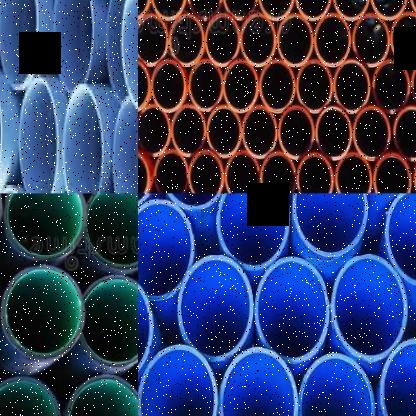pipe: (331, 254, 408, 361), (254, 256, 329, 363), (178, 256, 254, 361), (2, 265, 85, 359), (215, 193, 291, 268), (217, 346, 298, 416), (3, 194, 86, 262), (138, 345, 216, 416), (138, 201, 194, 299), (17, 68, 60, 193), (80, 275, 138, 367), (293, 194, 368, 260), (299, 353, 374, 416), (86, 193, 138, 270), (384, 193, 416, 287), (65, 375, 138, 416), (379, 336, 415, 416), (0, 378, 60, 416), (372, 59, 411, 113), (352, 13, 390, 67), (353, 105, 390, 160), (119, 0, 138, 106), (278, 105, 315, 159), (333, 60, 370, 114), (259, 59, 296, 113), (296, 59, 333, 113), (277, 13, 314, 67), (314, 13, 351, 67), (315, 107, 352, 160), (206, 105, 242, 158), (223, 59, 259, 112), (169, 13, 205, 66), (240, 13, 276, 66), (151, 59, 186, 113), (205, 13, 240, 67), (242, 105, 277, 158), (171, 104, 206, 157), (189, 59, 223, 111), (138, 104, 170, 157), (373, 152, 412, 194), (138, 13, 168, 67), (259, 150, 296, 193), (188, 150, 225, 193), (297, 152, 333, 194), (336, 152, 372, 194), (224, 150, 259, 193), (154, 150, 188, 193), (390, 11, 416, 67), (393, 107, 416, 161), (295, 0, 332, 21), (257, 0, 294, 21), (332, 0, 369, 21), (370, 0, 408, 20), (186, 0, 222, 21), (151, 0, 186, 21), (223, 0, 258, 21), (138, 59, 150, 112), (138, 150, 149, 193), (138, 0, 149, 21), (408, 0, 416, 19)
